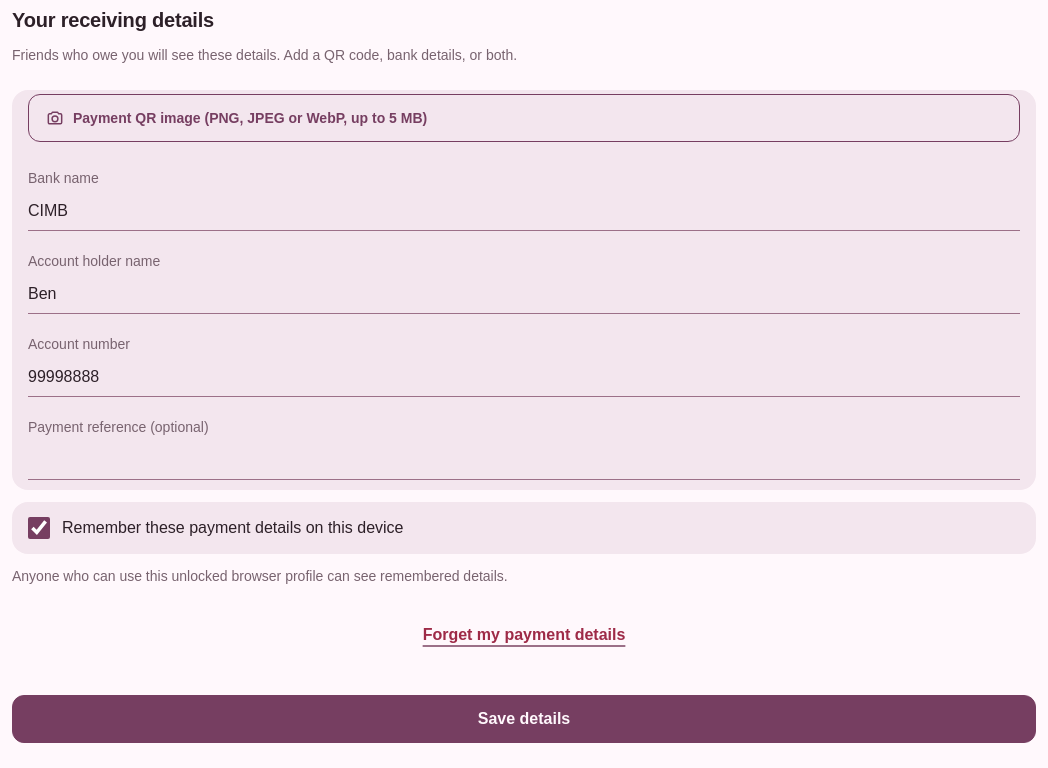
Test: PaymentDetailsForm › prefills from the remembered copy and can forget it
Expected: the field showing "CIMB" is shown, [28,191,1020,231]
Expected: the checkbox labelled "Remember these payment details on this device" is checked, [28,517,50,539]
Click the button "Forget my payment details" at (524, 635), box [12,611,1036,659]
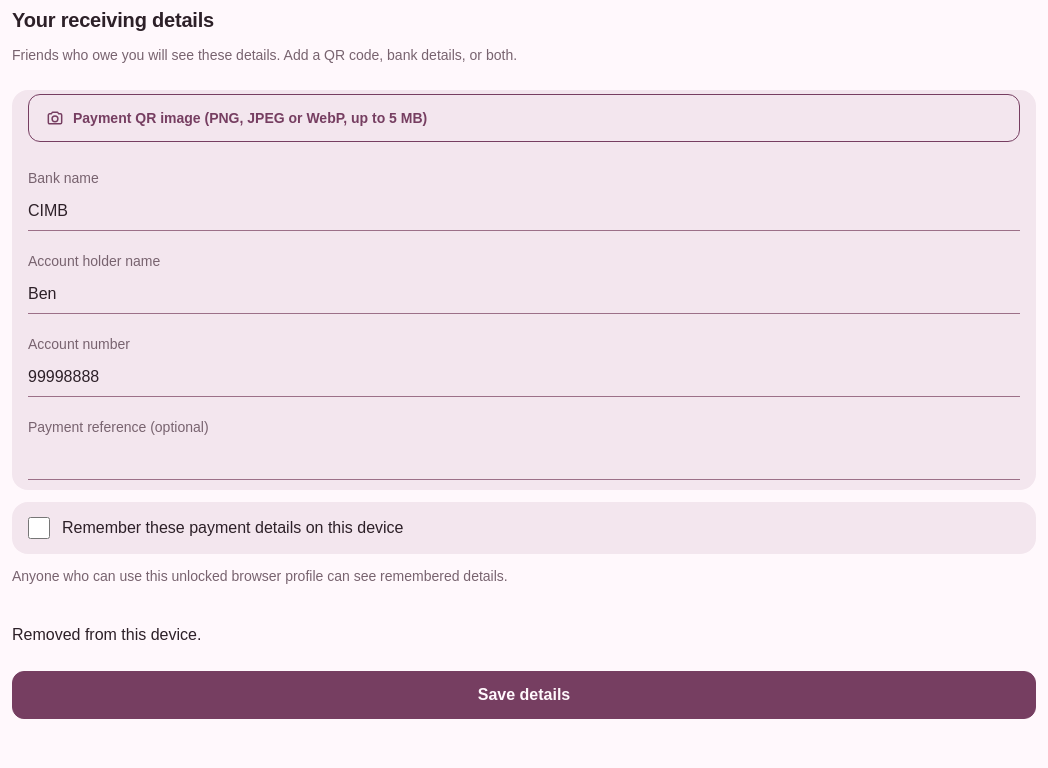
Expected: the button "Forget my payment details" is gone
